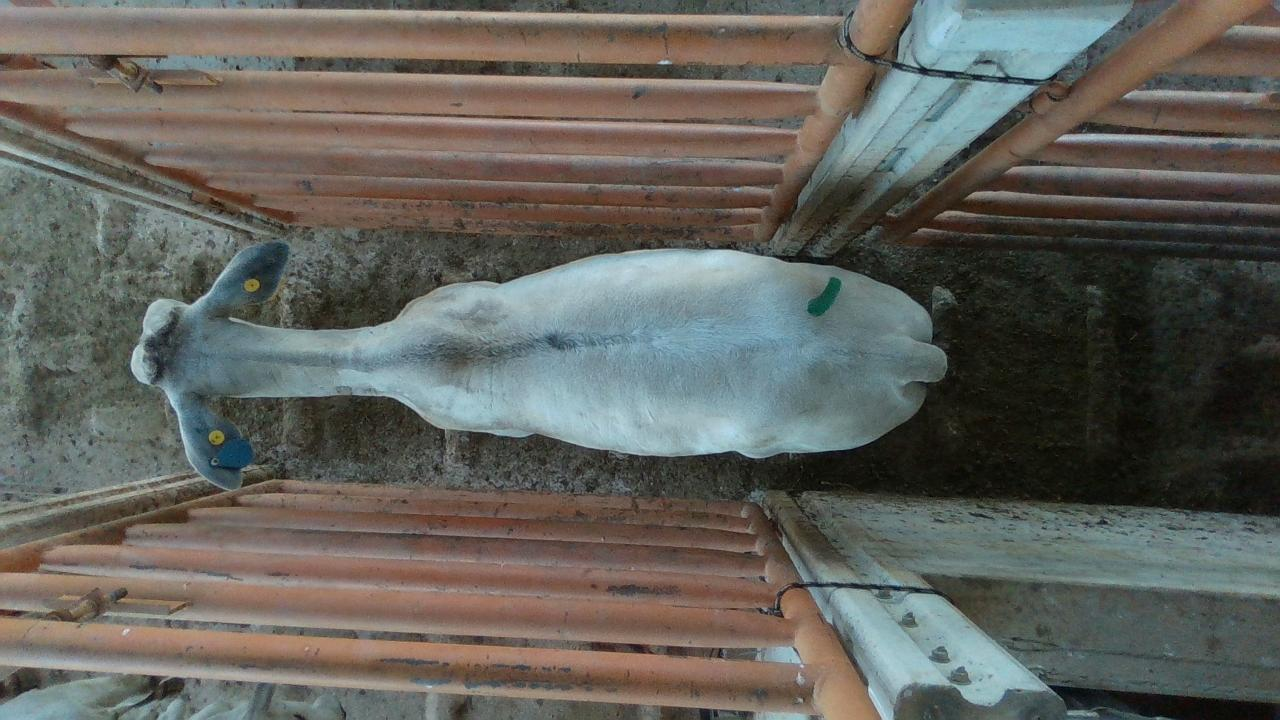cattle: (128, 238, 949, 491)
